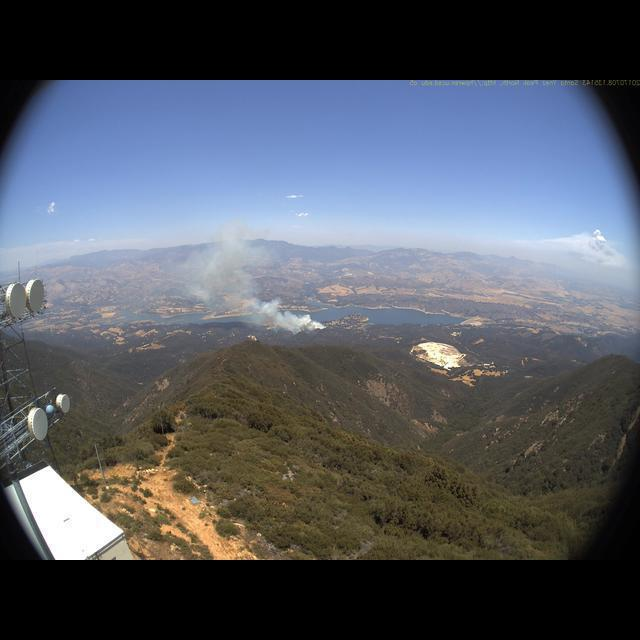Smoke: (163, 223, 331, 335)
